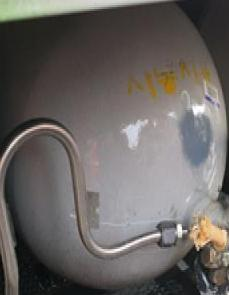cylinder: (1, 1, 229, 295)
